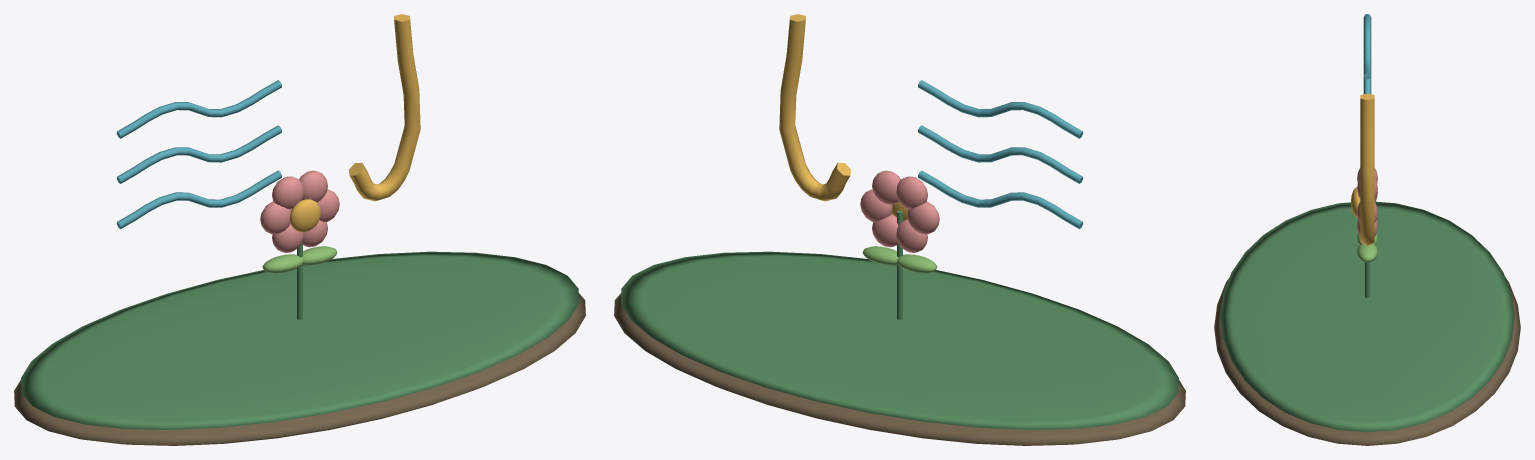
File: complete-second-inhale-pull-attract.glb
3 views of the same model, side by side, from view 1: azimuth 30°, elevation 25°; view 2: azimuth 150°, elevation 25°; view 3: azimuth 270°, elevation 25° (orthographic). The views are drawn at different scales.
Visible parts, largest first — view 1: complete-second-inhale-pull-attract_surface_01, complete-second-inhale-pull-attract_surface_00, complete-second-inhale-pull-attract_surface_03, complete-second-inhale-pull-attract_surface_02, complete-second-inhale-pull-attract_surface_05, complete-second-inhale-pull-attract_surface_04; view 2: complete-second-inhale-pull-attract_surface_01, complete-second-inhale-pull-attract_surface_00, complete-second-inhale-pull-attract_surface_02, complete-second-inhale-pull-attract_surface_05, complete-second-inhale-pull-attract_surface_03, complete-second-inhale-pull-attract_surface_04; view 3: complete-second-inhale-pull-attract_surface_01, complete-second-inhale-pull-attract_surface_00, complete-second-inhale-pull-attract_surface_03, complete-second-inhale-pull-attract_surface_02, complete-second-inhale-pull-attract_surface_05, complete-second-inhale-pull-attract_surface_04.
Boxes of the visible parts, x1=… form: complete-second-inhale-pull-attract_surface_01: x1=21, y1=243, x2=578, y2=429; complete-second-inhale-pull-attract_surface_00: x1=14, y1=293, x2=585, y2=445; complete-second-inhale-pull-attract_surface_03: x1=290, y1=14, x2=420, y2=232; complete-second-inhale-pull-attract_surface_02: x1=116, y1=80, x2=281, y2=229; complete-second-inhale-pull-attract_surface_05: x1=260, y1=170, x2=339, y2=252; complete-second-inhale-pull-attract_surface_04: x1=262, y1=246, x2=337, y2=273; complete-second-inhale-pull-attract_surface_01: x1=621, y1=210, x2=1178, y2=429; complete-second-inhale-pull-attract_surface_00: x1=614, y1=293, x2=1185, y2=445; complete-second-inhale-pull-attract_surface_02: x1=918, y1=80, x2=1083, y2=229; complete-second-inhale-pull-attract_surface_05: x1=860, y1=170, x2=939, y2=252; complete-second-inhale-pull-attract_surface_03: x1=779, y1=14, x2=908, y2=220; complete-second-inhale-pull-attract_surface_04: x1=862, y1=246, x2=937, y2=273; complete-second-inhale-pull-attract_surface_01: x1=1220, y1=201, x2=1514, y2=432; complete-second-inhale-pull-attract_surface_00: x1=1214, y1=277, x2=1520, y2=445; complete-second-inhale-pull-attract_surface_03: x1=1351, y1=93, x2=1374, y2=245; complete-second-inhale-pull-attract_surface_02: x1=1363, y1=14, x2=1371, y2=93; complete-second-inhale-pull-attract_surface_05: x1=1357, y1=168, x2=1377, y2=236; complete-second-inhale-pull-attract_surface_04: x1=1357, y1=233, x2=1377, y2=262.
Size of the model in its own units: 4.56 by 2.6 by 2.5.
